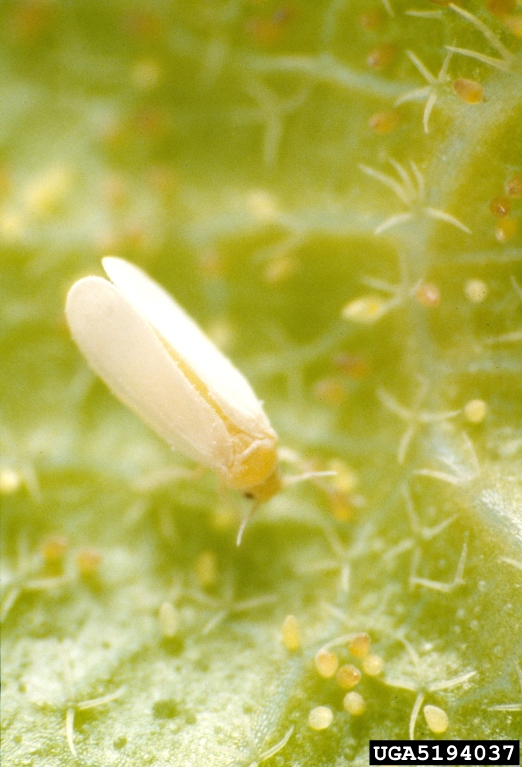Tobacco Whitefly: (51, 242, 344, 557)
